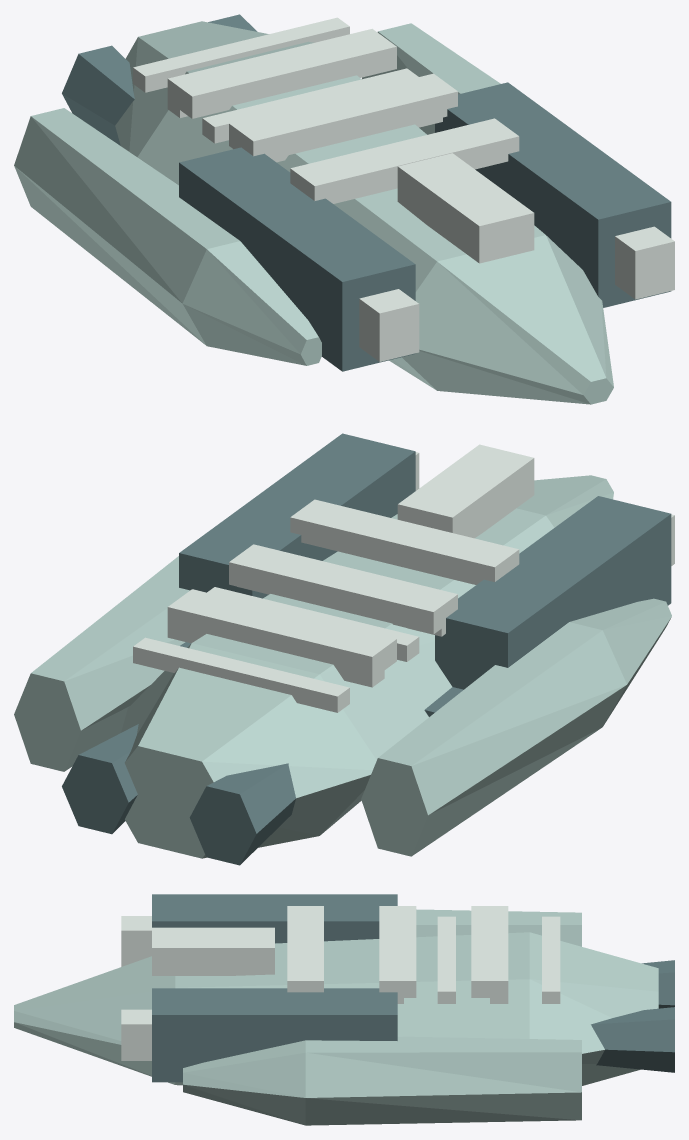
The picture shows the model from 3 angles, top to bottom: view 1: azimuth 30°, elevation 25°; view 2: azimuth 150°, elevation 25°; view 3: azimuth 270°, elevation 25°; orthographic projection. The views are drawn at different scales.
Size of the model in its own units: 2.72 by 1.08 by 4.65.
